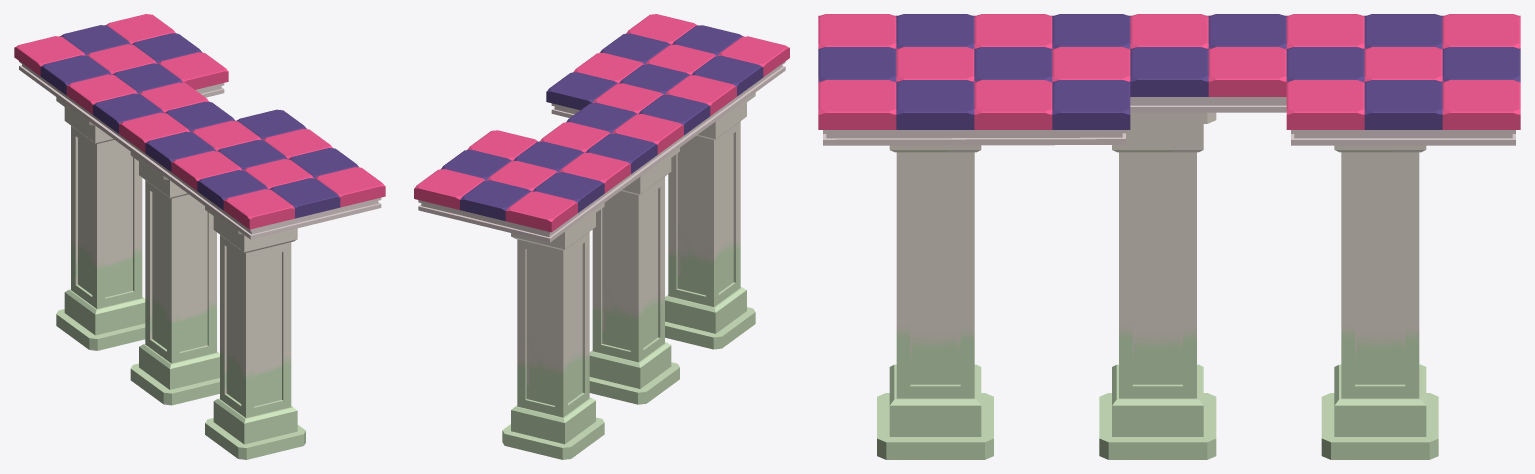
Rendered from column bridge.fbx.
3 views of the same model, side by side, from view 1: azimuth 30°, elevation 25°; view 2: azimuth 150°, elevation 25°; view 3: azimuth 270°, elevation 25° (orthographic). The views are drawn at different scales.
Visible parts, largest first — view 1: Cube.012, Cube.020, Cube.019; view 2: Cube.012, Cube.020, Cube.019; view 3: Cube.012, Cube.020, Cube.019.
Part boxes in pixels (box(x1,y1,x2,y2)): Cube.012: box(56, 97, 305, 459); Cube.020: box(14, 14, 385, 229); Cube.019: box(19, 61, 381, 239); Cube.012: box(502, 92, 755, 459); Cube.020: box(414, 14, 789, 232); Cube.019: box(418, 61, 785, 242); Cube.012: box(877, 112, 1438, 459); Cube.020: box(818, 14, 1520, 129); Cube.019: box(823, 97, 1515, 145).
Bounding box in the file's own units: 300 × 550 × 900.
